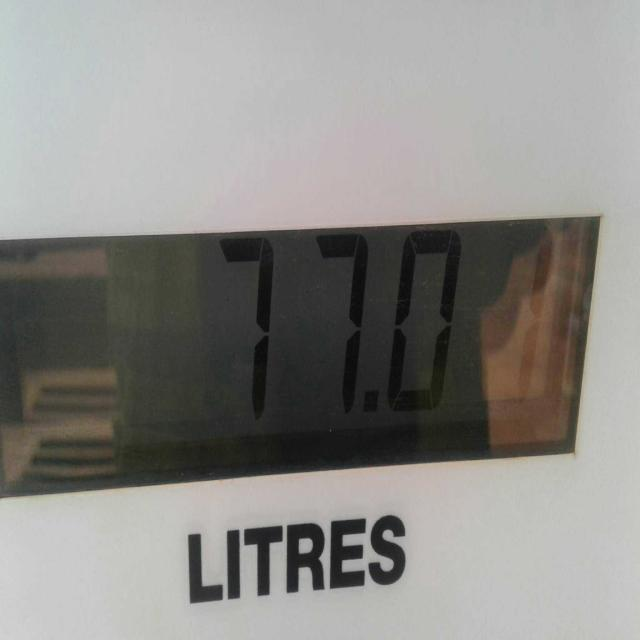.: (359, 384, 386, 434)
0: (386, 229, 464, 429)
7: (211, 229, 285, 443), (304, 234, 372, 421)
